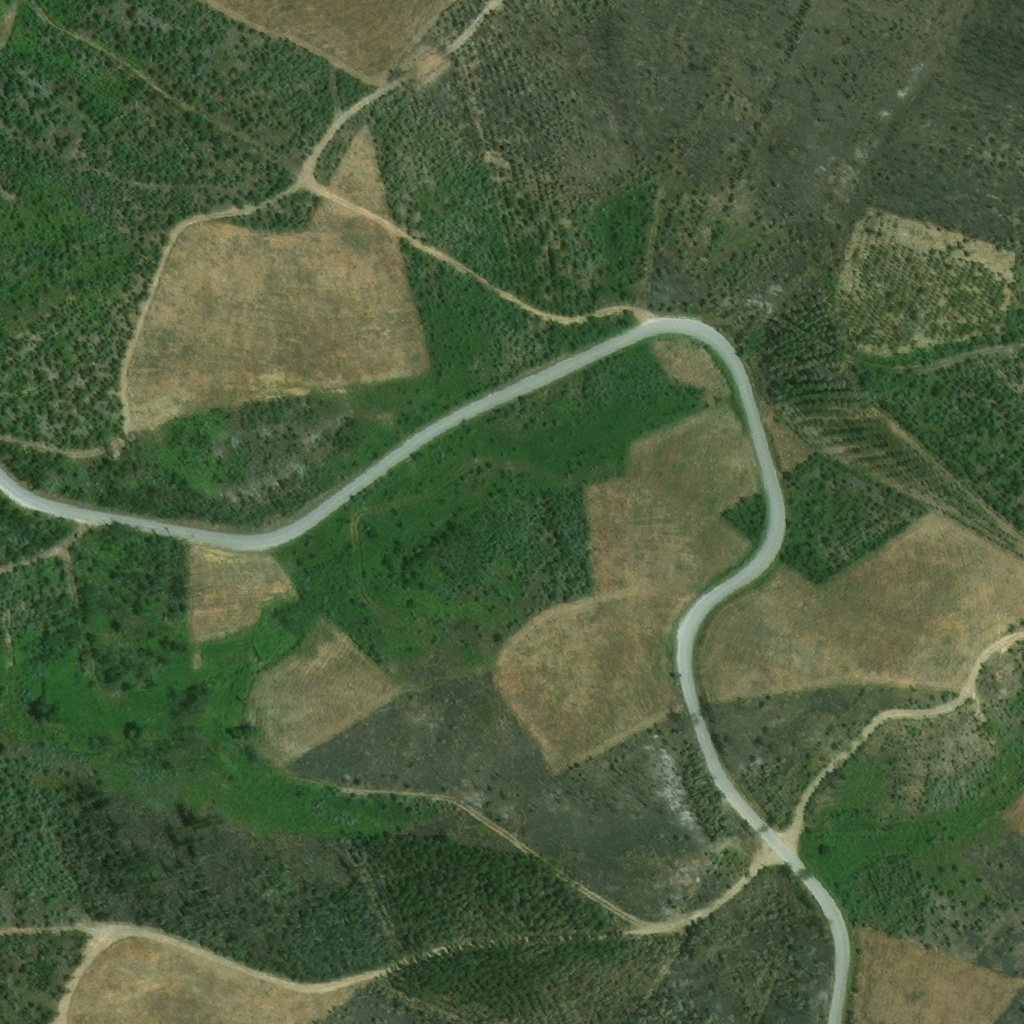4 un-classified: (739, 848, 750, 861)
